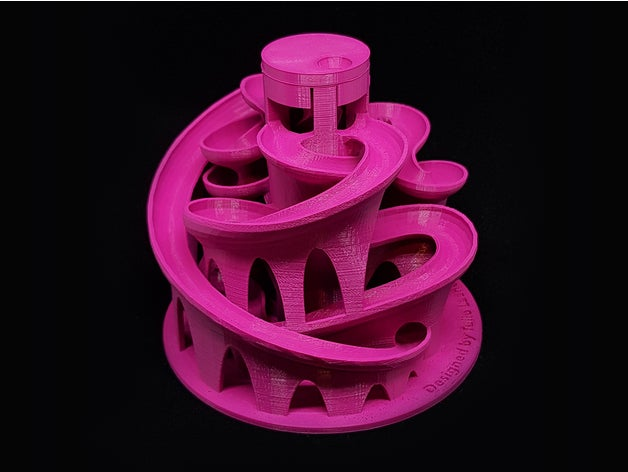Good: (134, 17, 511, 435)
